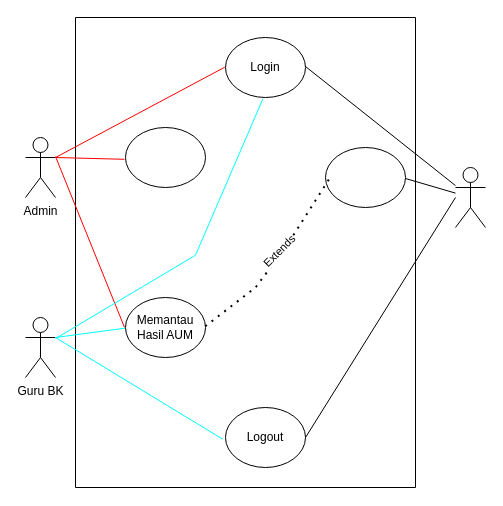
Some shapes in this 503 by 506 pixel diagram are drawn without their labels. The centre of each missing label's shape, as x and y in pixels:
Input AUM: the point at 365,177
Mengelola Akun: the point at 165,157
Siswa: the point at 470,197
